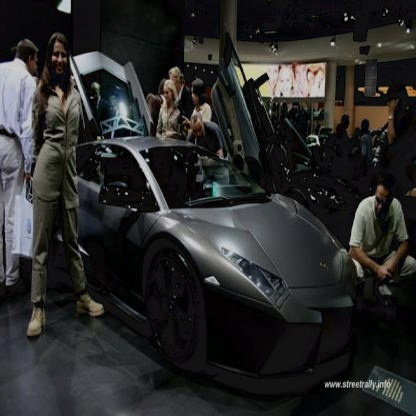Vehicle: (56, 51, 362, 390)
